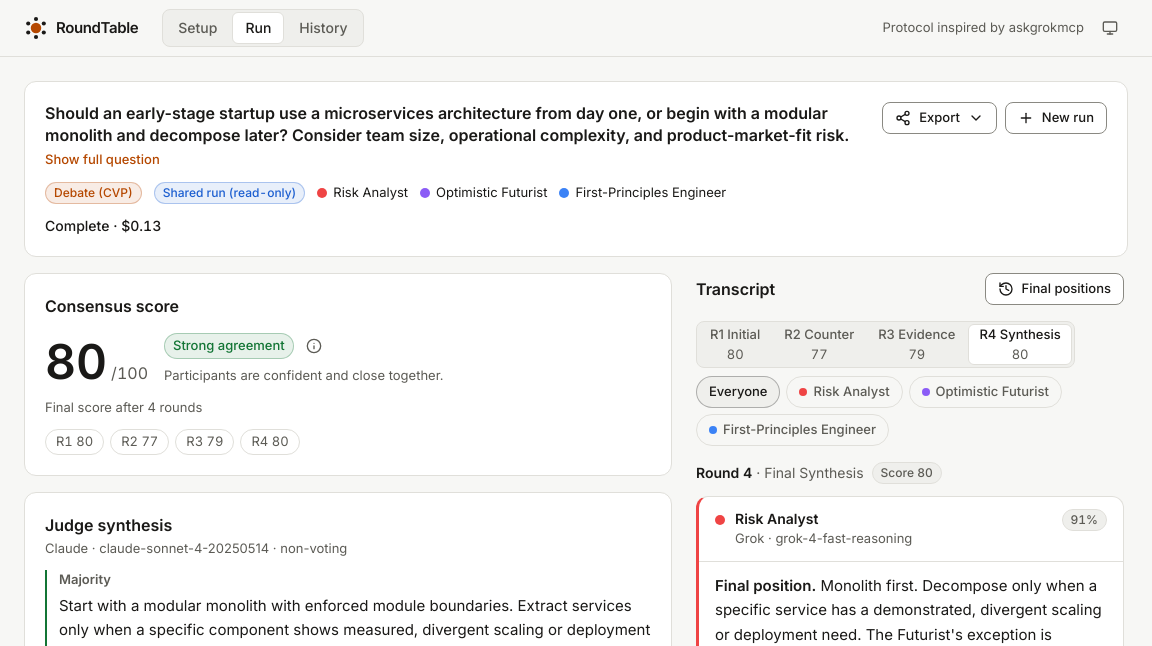
Test case: HomePage — #rt= permalinks › opens a shared run read-only in the Run view
Expected: the text "Shared run (read-only)" is shown, [154,182,305,204]
Expected: the 1st heading shows "early-stage startup", [45,103,849,145]
New run leaves the shared view and drops the permalink from the URL.
Click the button "New run" at point(1056, 118), box [1005,102,1107,134]
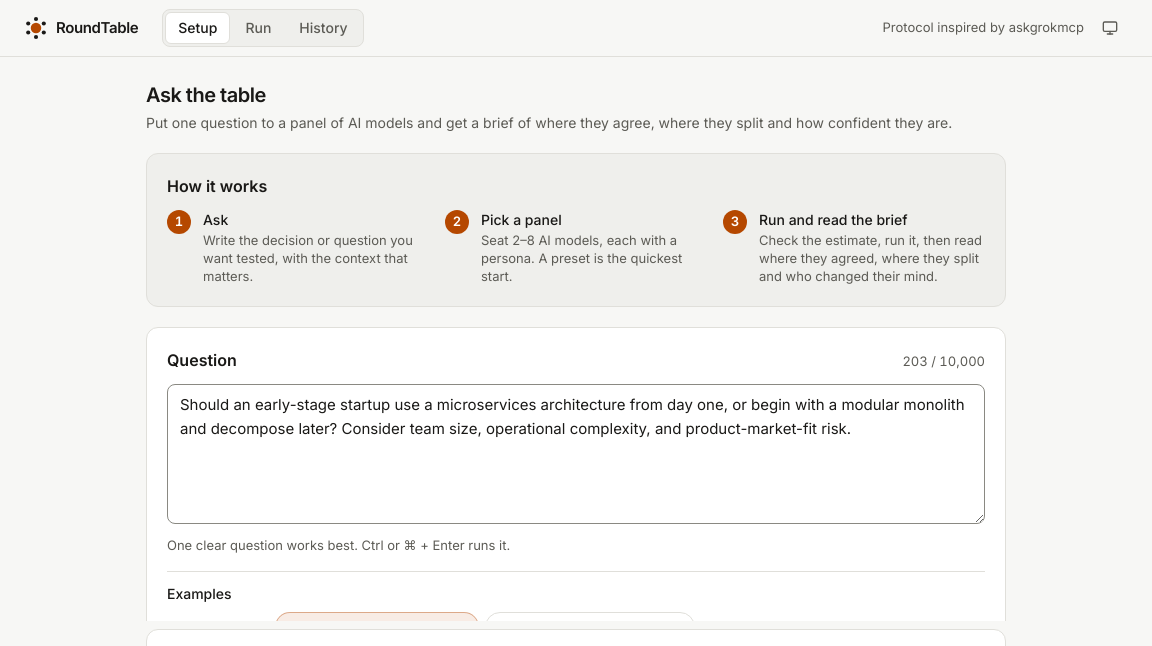
Now the heading "Ask the table" is shown, box [146,83,266,107]
